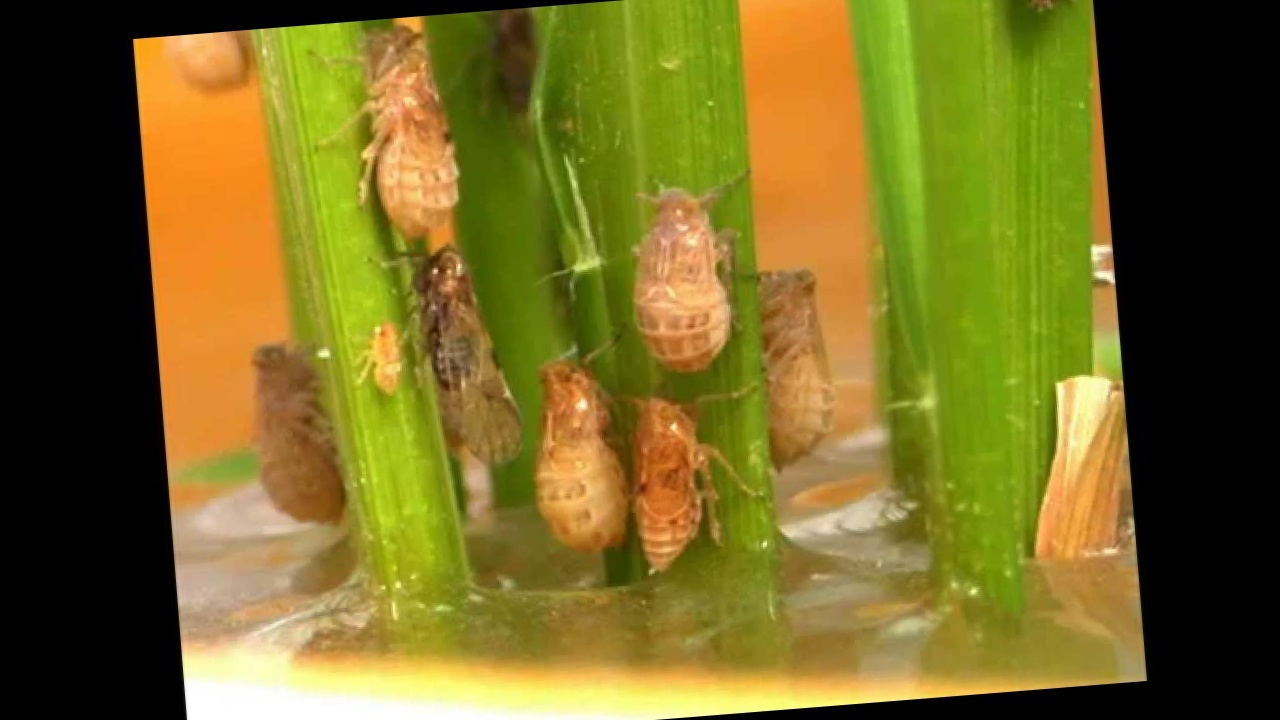Brown_hopper: (392, 241, 529, 469), (342, 20, 481, 242), (619, 388, 749, 570), (625, 175, 738, 375), (237, 335, 350, 529), (754, 265, 849, 485), (527, 351, 628, 551), (357, 320, 404, 398)
